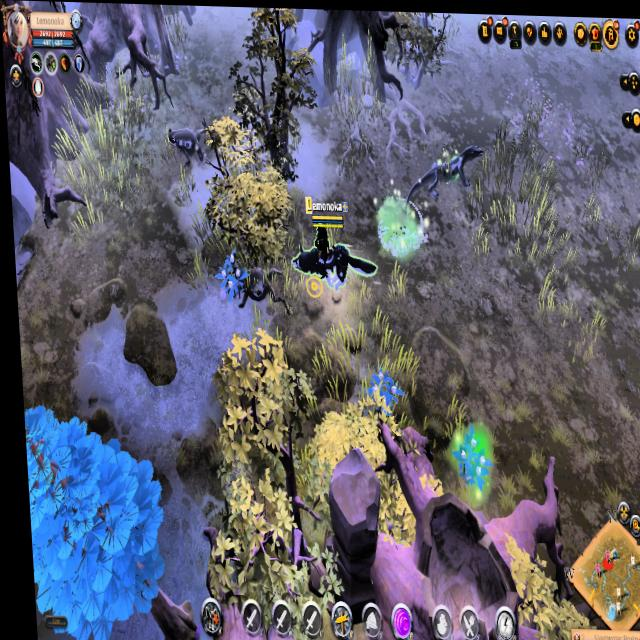fiber tier 4: (449, 417, 489, 496), (212, 246, 246, 305)
